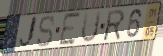6: (126, 8, 143, 39)
E: (57, 11, 82, 48)
J: (17, 15, 38, 51)
R: (103, 8, 126, 43)
S: (36, 14, 56, 49)
U: (80, 9, 103, 44)
